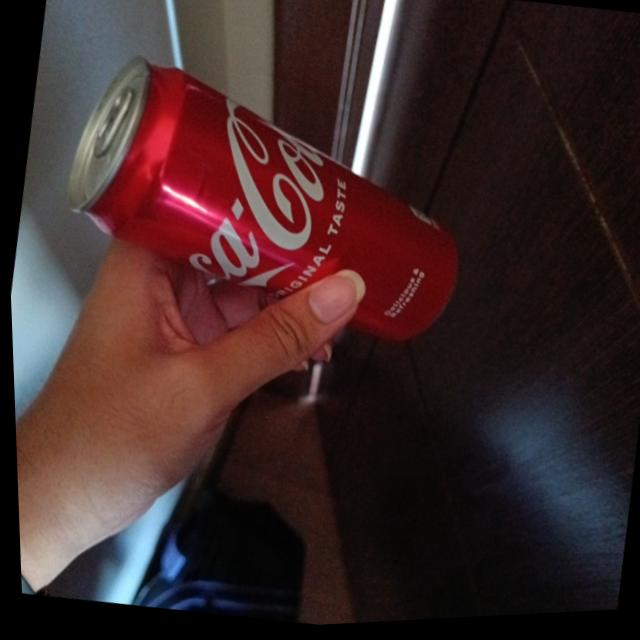coke: (42, 32, 484, 369)
